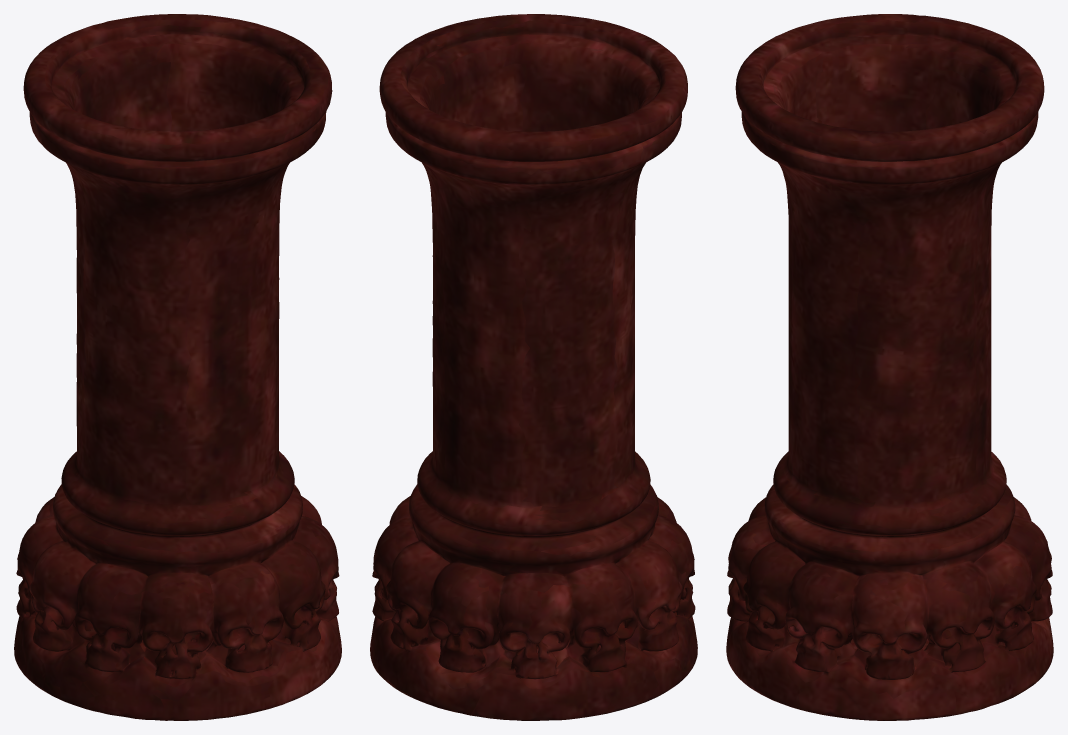
File: COL3A0_2026-08-20T001548.001.glb
3 views of the same model, side by side, from view 1: azimuth 30°, elevation 25°; view 2: azimuth 150°, elevation 25°; view 3: azimuth 270°, elevation 25° (orthographic).
Visible parts, largest first — view 1: world; view 2: world; view 3: world.
Boxes of the visible parts, x1=… form: world: x1=14, y1=14, x2=341, y2=720; world: x1=370, y1=14, x2=697, y2=720; world: x1=726, y1=14, x2=1053, y2=720.
Size of the model in its own units: 0.5159 by 1 by 0.5158.
1 material, 1 textured.
